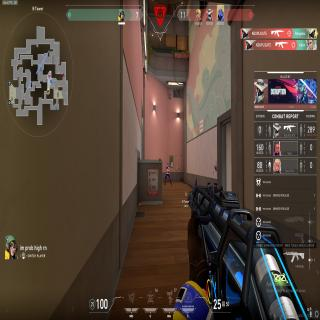ENEMY-BODY: (166, 163, 172, 187)
ENEMY-HEAD: (167, 163, 169, 166)
